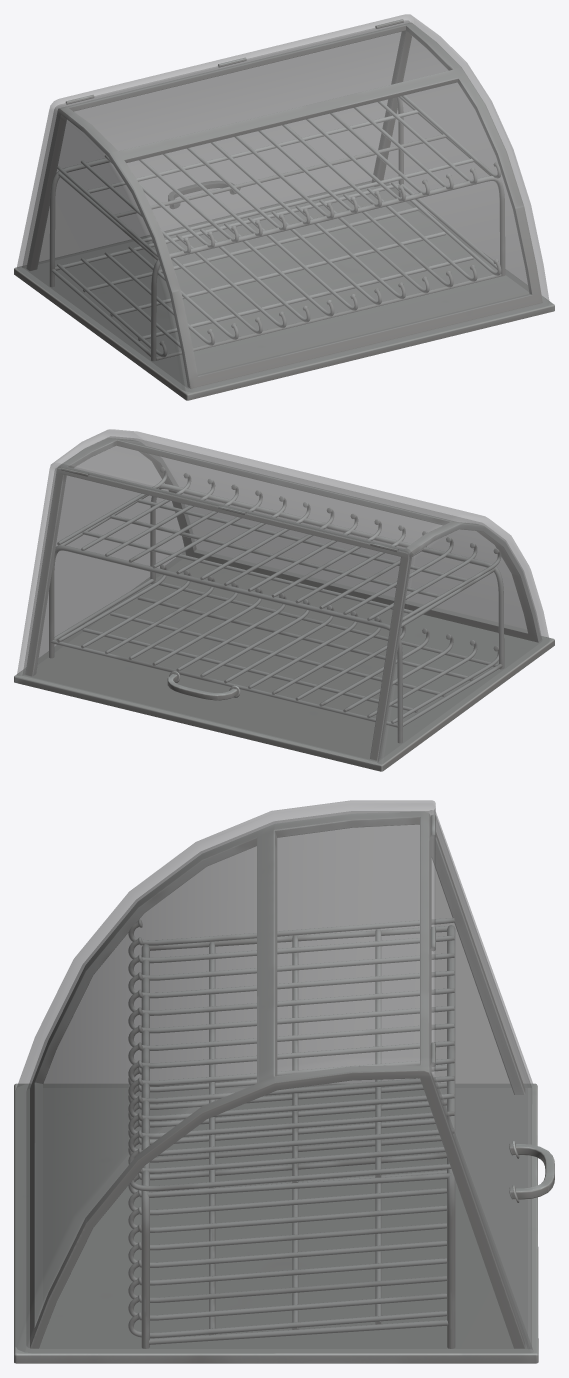
File: estanteria_comida.glb
3 views of the same model, one above another, from view 1: azimuth 30°, elevation 25°; view 2: azimuth 150°, elevation 25°; view 3: azimuth 270°, elevation 25° (orthographic). The views are drawn at different scales.
Visible parts, largest first — view 1: SM_Food_Rack; view 2: SM_Food_Rack; view 3: SM_Food_Rack.
Boxes of the visible parts, bbox=[...] form: SM_Food_Rack: bbox=[14, 14, 554, 400]; SM_Food_Rack: bbox=[14, 429, 554, 771]; SM_Food_Rack: bbox=[14, 800, 554, 1363].
Size of the model in its own units: 0.6183 by 0.317 by 0.5209.
2 materials, 2 textured.
